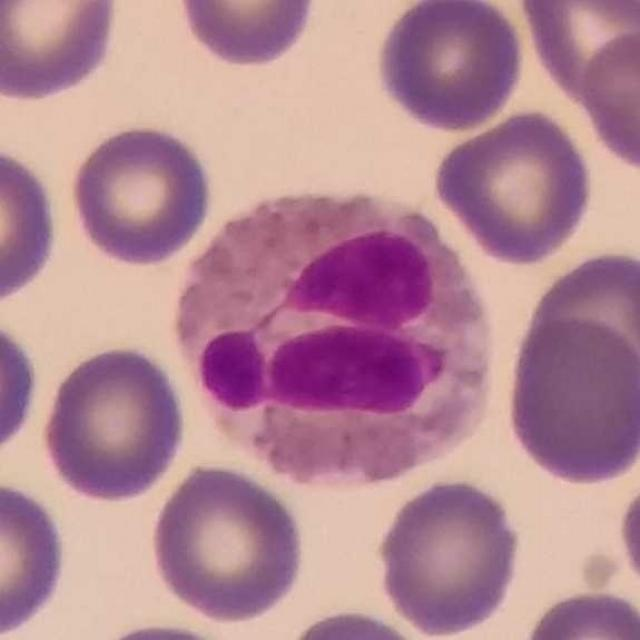eosino: (176, 193, 498, 487)
